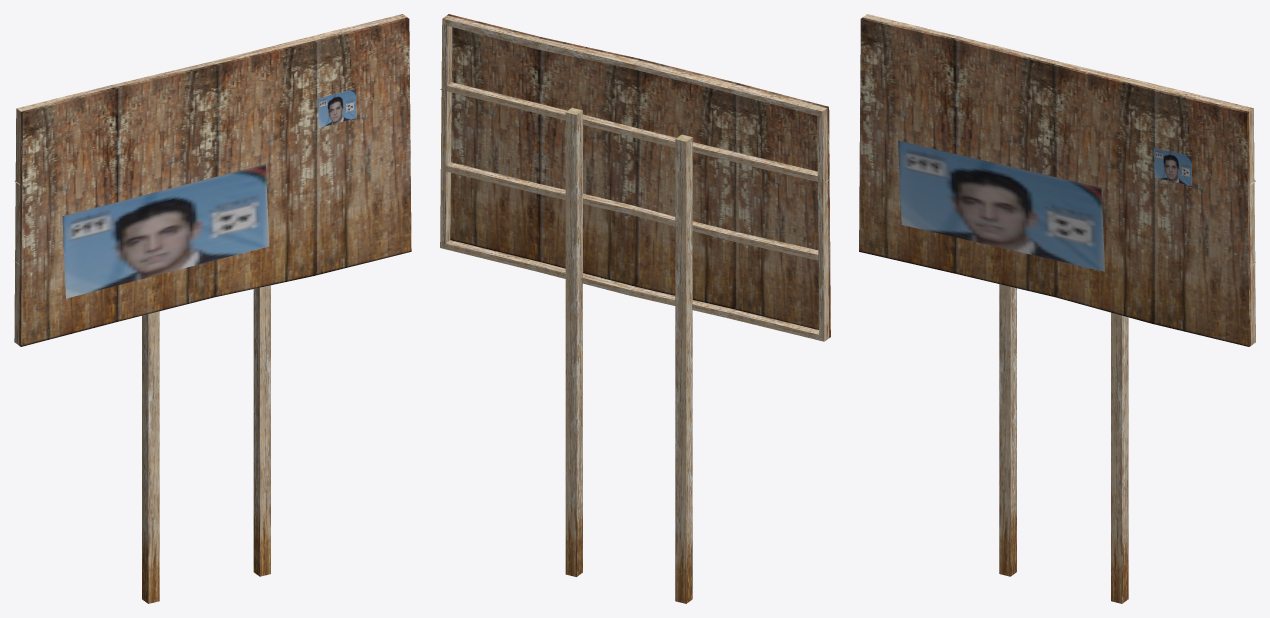
The model's file is billboard_prp.fbx.
3 renders of one model, left to right at view 1: azimuth 30°, elevation 25°; view 2: azimuth 150°, elevation 25°; view 3: azimuth 330°, elevation 25°, orthographic.
Visible parts, largest first — view 1: billboard_prp, paper56, paper57; view 2: billboard_prp; view 3: billboard_prp, paper56, paper57.
Part boxes in pixels (x1,y1,x2,y2): billboard_prp: (14, 14, 411, 603); paper56: (62, 164, 269, 298); paper57: (318, 88, 356, 127); billboard_prp: (440, 14, 830, 603); billboard_prp: (859, 14, 1255, 603); paper56: (898, 140, 1104, 271); paper57: (1154, 148, 1192, 185).
Bounding box in the file's own units: 70 × 90.71 × 4.39.
